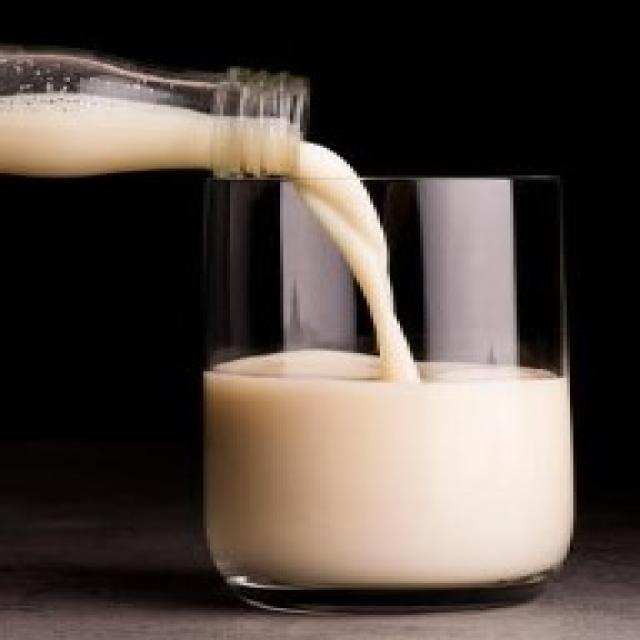electronic: (189, 172, 576, 616)
